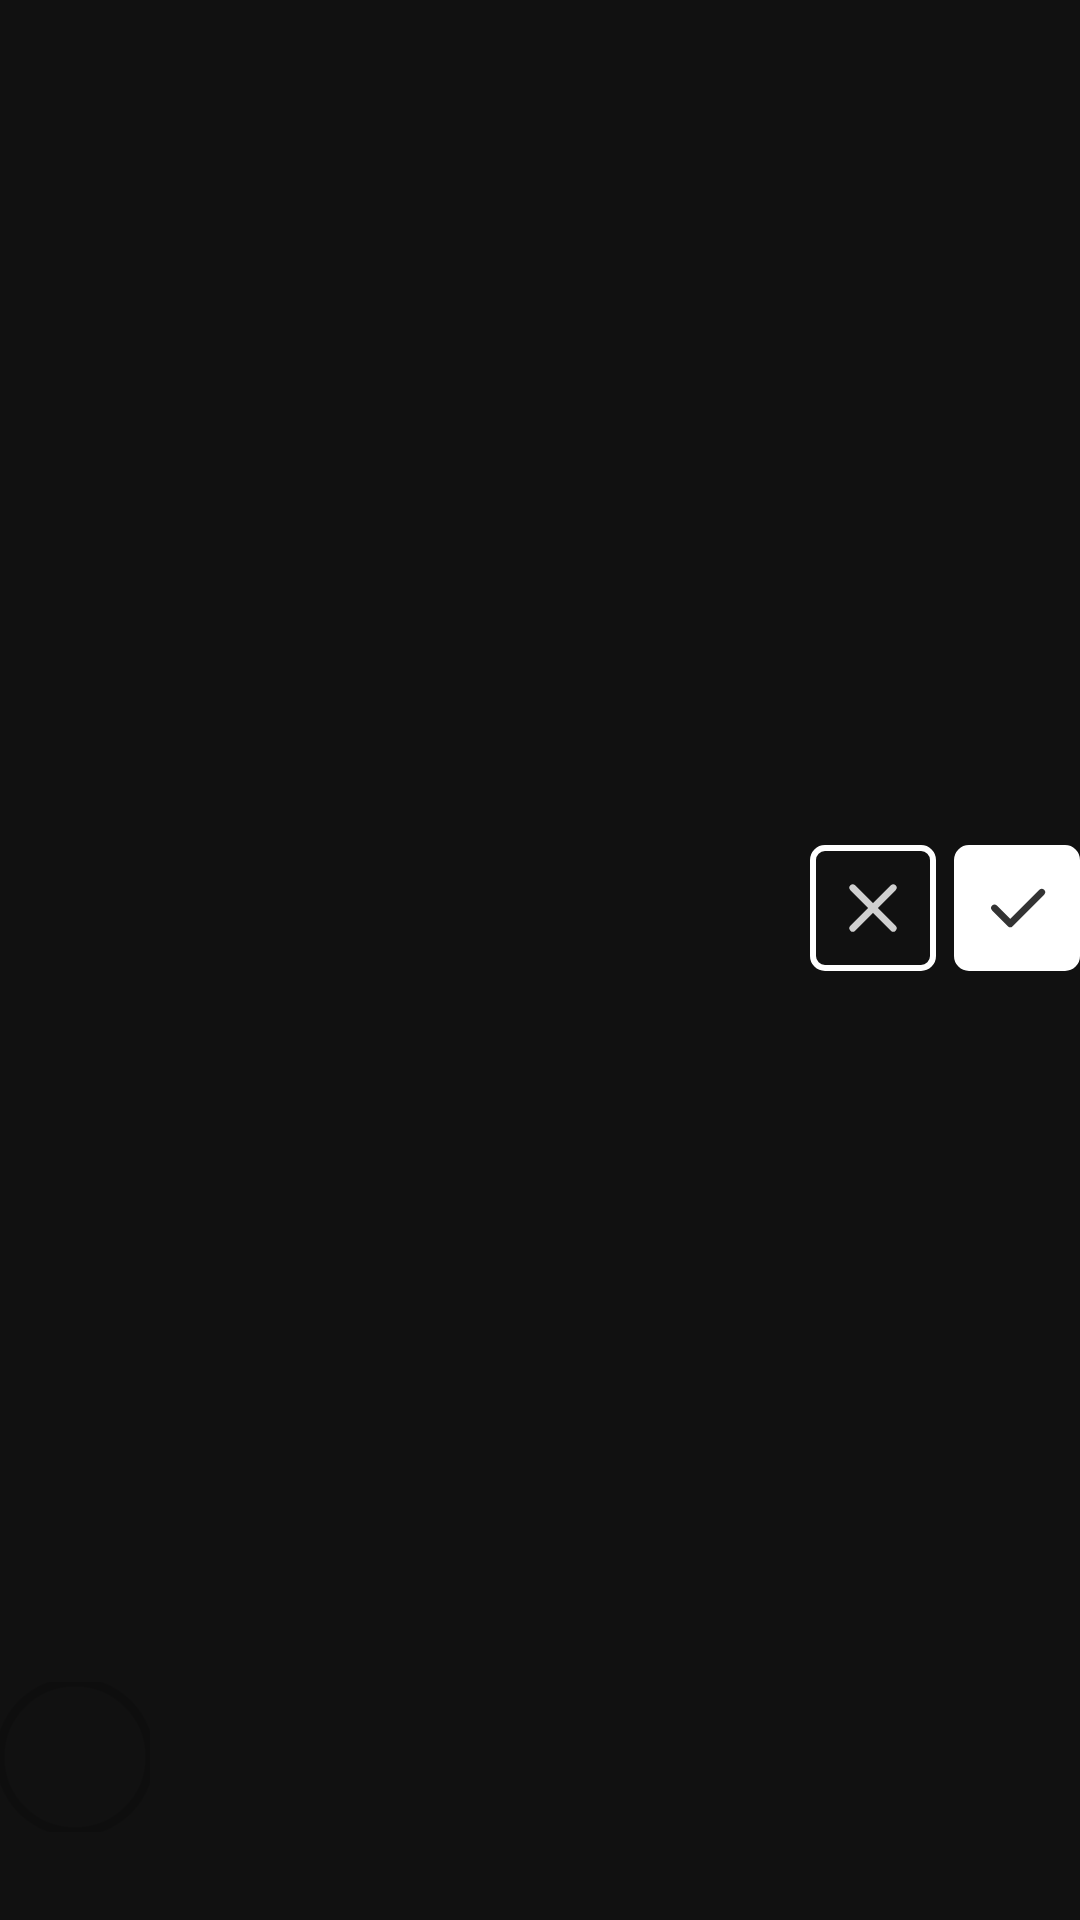

Point at icon controls on the screen. Image size 1080×1920, points as (x=x, y=y).
cross: (x=873, y=908)
tick: (x=1017, y=908)
